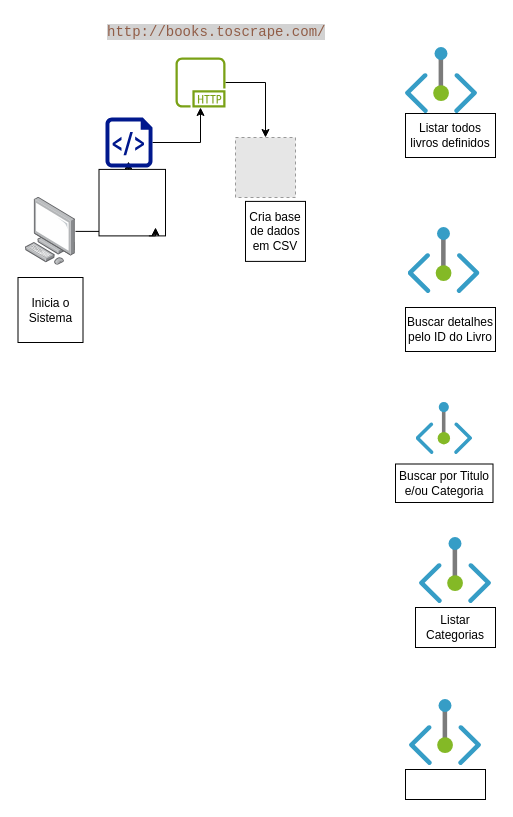
This 513x817 diagram has some shape labels left out. Grey dashed boxes stand in for pictures. The centre of each missing label's shape, as x and y in pixels:
"Status Api" goes at point 445,784.
"WebSrapping" goes at point 132,202.
